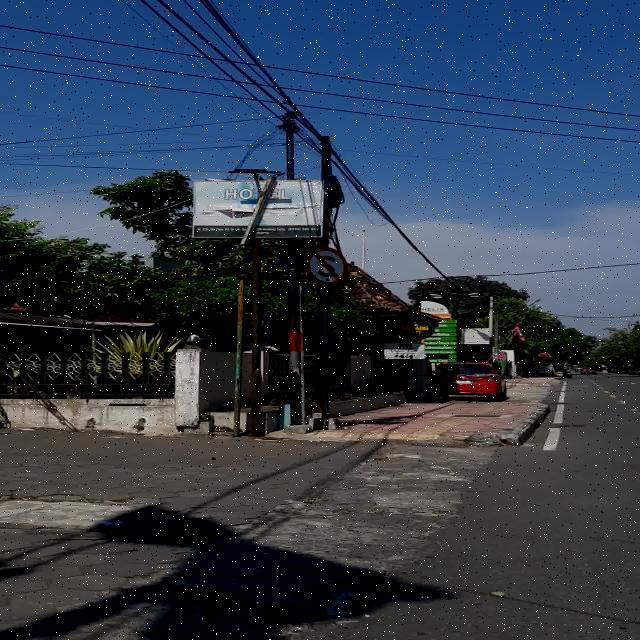Dilarang Berhenti: (305, 247, 347, 286)
